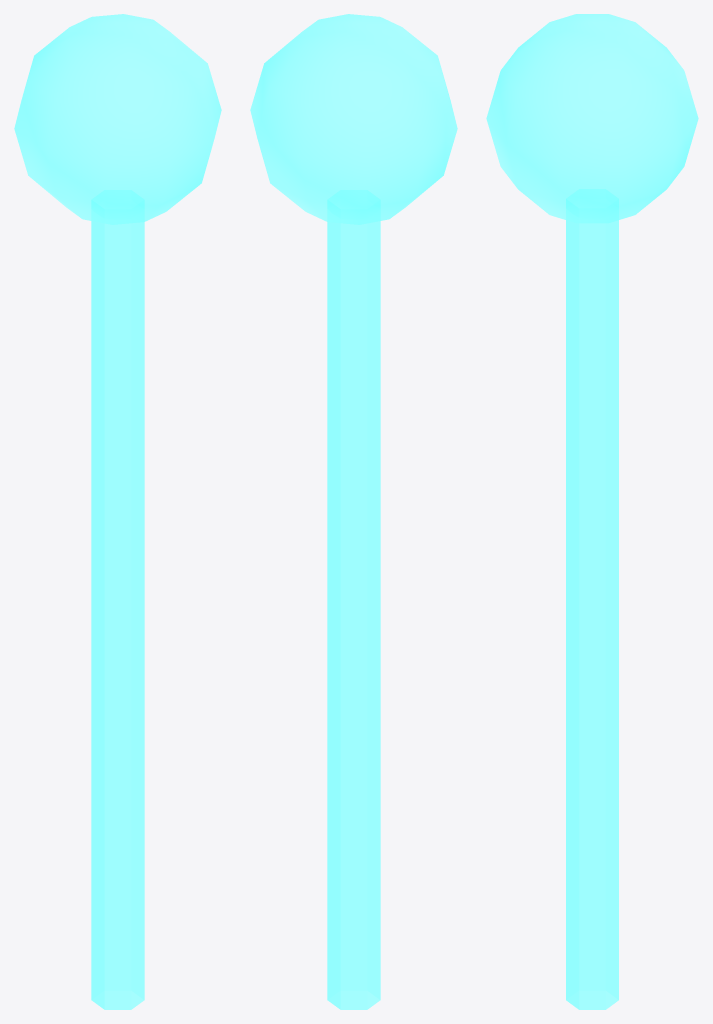
File: Overlay_Pin.fbx
3 renders of one model, left to right at view 1: azimuth 30°, elevation 25°; view 2: azimuth 150°, elevation 25°; view 3: azimuth 270°, elevation 25°, orthographic.
Visible parts, largest first — view 1: Overlay_Pin_Body; view 2: Overlay_Pin_Body; view 3: Overlay_Pin_Body.
Boxes of the visible parts, box(x1,y1,x2,y2) form: Overlay_Pin_Body: box(14, 14, 221, 1009); Overlay_Pin_Body: box(250, 14, 457, 1009); Overlay_Pin_Body: box(486, 14, 698, 1009).
Bounding box in the file's own units: 0.1141 × 0.61 × 0.12.
